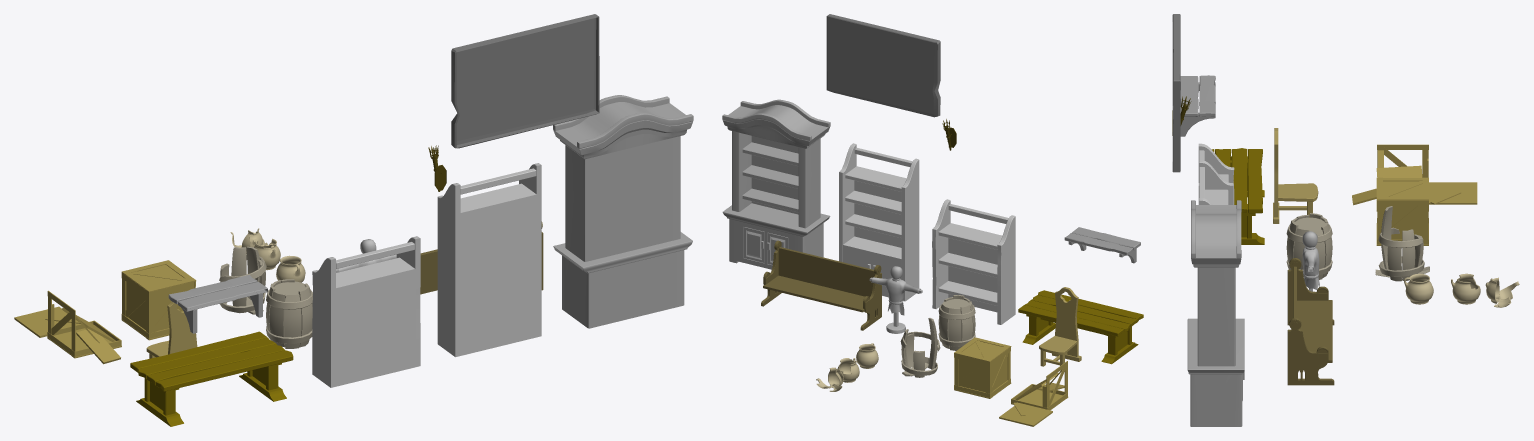
File: All props for Substance.fbx
3 views of the same model, side by side, from view 1: azimuth 30°, elevation 25°; view 2: azimuth 150°, elevation 25°; view 3: azimuth 270°, elevation 25° (orthographic). The views are drawn at different scales.
Visible parts, largest first — view 1: Tall_bookshelf_Detailed, Tall_bookshelf, Plaque, Short_bookshelf, Table, Crate, Crate_broken, Barrel, Wall_shelf, Barrel_Broken, Chair, Bench (+1 smaller); view 2: Tall_bookshelf_Detailed, Tall_bookshelf, Plaque, Short_bookshelf, Bench, Table, Crate, Crate_broken, Chair, Barrel, Barrel_Broken, Wall_shelf (+3 smaller); view 3: Tall_bookshelf_Detailed, Bench, Crate, Crate_broken, Table, Barrel_Broken, Barrel, Wall_shelf, Chair, Plaque, Tall_bookshelf, Dummy (+4 smaller).
Part boxes in pixels (bbox=[...]): Tall_bookshelf_Detailed: bbox=[553, 95, 693, 328]; Tall_bookshelf: bbox=[437, 163, 541, 357]; Plaque: bbox=[451, 14, 599, 148]; Short_bookshelf: bbox=[312, 236, 420, 387]; Table: bbox=[130, 331, 293, 426]; Crate: bbox=[121, 260, 196, 340]; Crate_broken: bbox=[14, 290, 121, 364]; Barrel: bbox=[266, 279, 312, 348]; Wall_shelf: bbox=[168, 275, 267, 333]; Barrel_Broken: bbox=[219, 246, 266, 314]; Chair: bbox=[146, 301, 197, 358]; Bench: bbox=[420, 221, 543, 294]; Tall_bookshelf_Detailed: bbox=[722, 99, 830, 269]; Tall_bookshelf: bbox=[839, 143, 919, 301]; Plaque: bbox=[826, 14, 940, 117]; Short_bookshelf: bbox=[932, 199, 1015, 324]; Bench: bbox=[761, 240, 881, 330]; Table: bbox=[1018, 290, 1143, 364]; Crate: bbox=[954, 337, 1011, 398]; Crate_broken: bbox=[999, 361, 1068, 426]; Chair: bbox=[1039, 287, 1081, 366]; Barrel: bbox=[938, 295, 975, 350]; Barrel_Broken: bbox=[900, 318, 940, 377]; Wall_shelf: bbox=[1064, 227, 1140, 263]; Tall_bookshelf_Detailed: bbox=[1187, 200, 1244, 426]; Bench: bbox=[1287, 258, 1334, 385]; Crate: bbox=[1376, 177, 1428, 245]; Crate_broken: bbox=[1352, 144, 1477, 211]; Table: bbox=[1212, 148, 1264, 244]; Barrel_Broken: bbox=[1375, 206, 1429, 281]; Barrel: bbox=[1286, 213, 1332, 279]; Wall_shelf: bbox=[1180, 75, 1215, 136]; Chair: bbox=[1273, 128, 1318, 223]; Plaque: bbox=[1172, 14, 1180, 172]; Tall_bookshelf: bbox=[1199, 160, 1233, 204]; Dummy: bbox=[1302, 231, 1319, 291].
Size of the model in its own units: 15.86 by 9.22 by 9.5.
